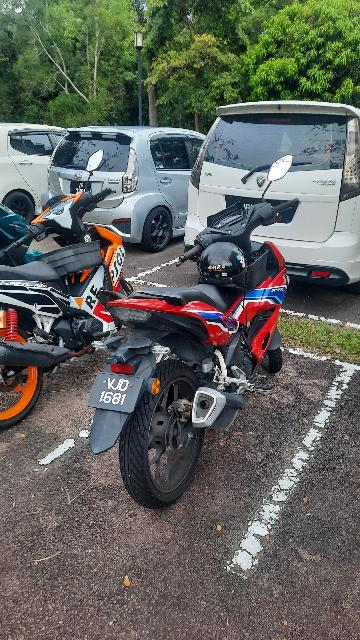License_Plate: (84, 367, 154, 421)
motorcycle: (85, 154, 324, 515)
